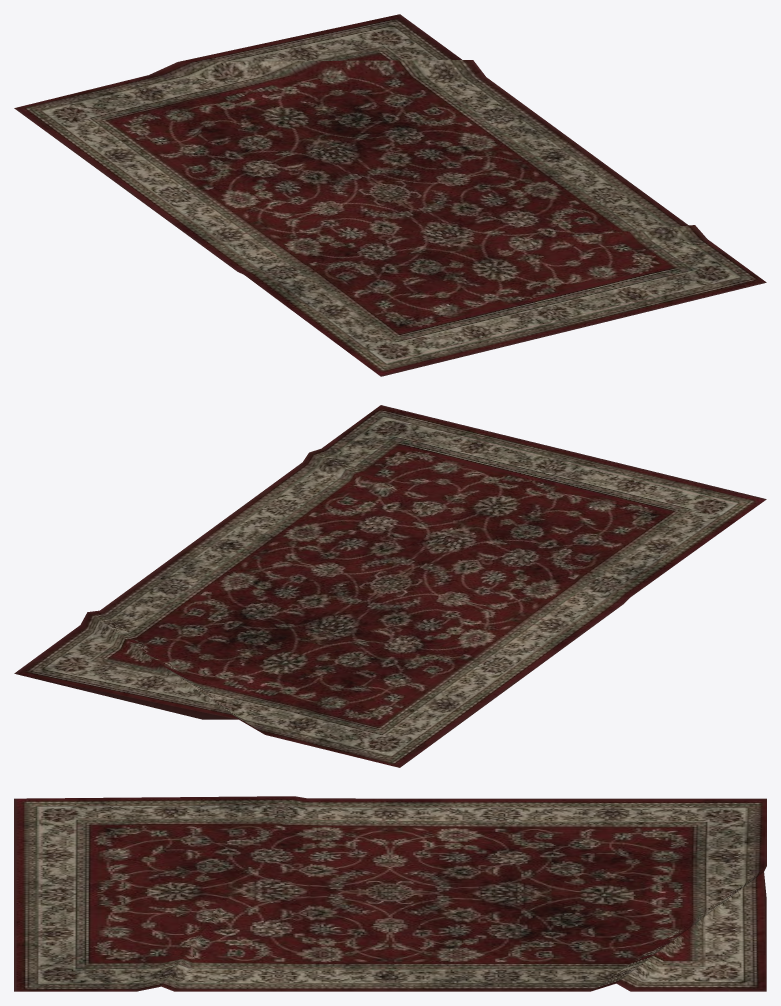
The model's file is rug-runner.lod1.glb.
3 renders of one model, top to bottom at view 1: azimuth 30°, elevation 25°; view 2: azimuth 150°, elevation 25°; view 3: azimuth 270°, elevation 25°, orthographic. The views are drawn at different scales.
Visible parts, largest first — view 1: rug-runner; view 2: rug-runner; view 3: rug-runner.
Part boxes in pixels (x1,y1,x2,y2): rug-runner: [14, 14, 766, 376]; rug-runner: [14, 405, 766, 767]; rug-runner: [14, 796, 766, 991].
Bounding box in the file's own units: 3.45 × 0.0675 × 5.68.
Materials: 1 (1 with a texture image).
